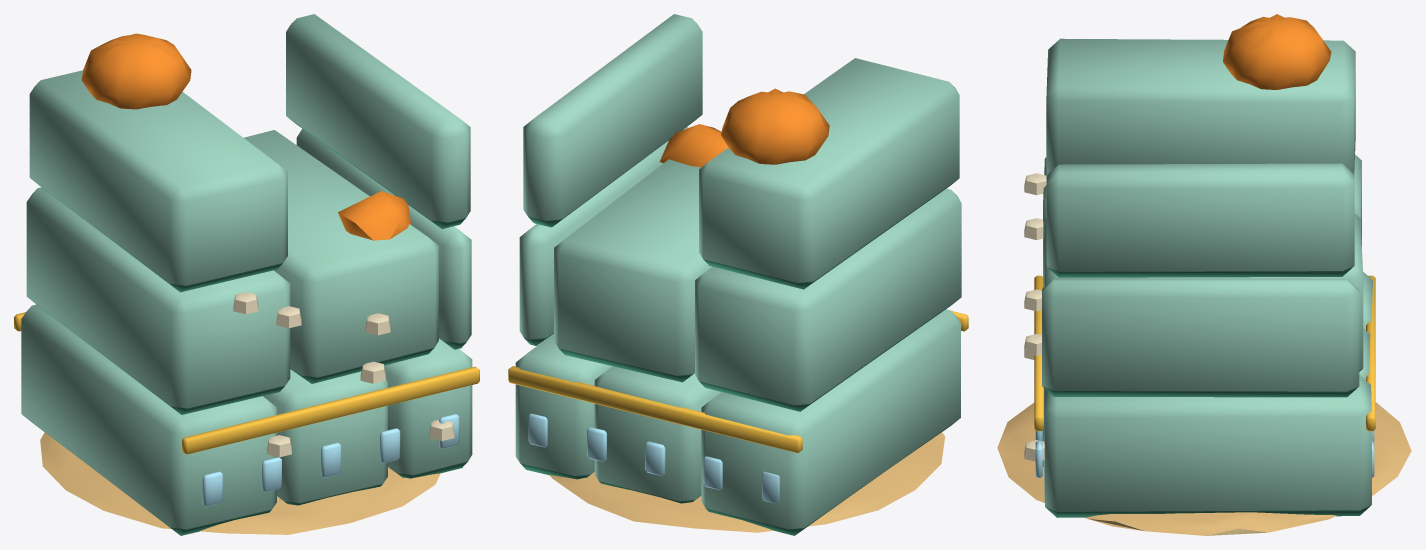
Rendered from AtlantisWall.fbx.
3 views of the same model, side by side, from view 1: azimuth 30°, elevation 25°; view 2: azimuth 150°, elevation 25°; view 3: azimuth 270°, elevation 25° (orthographic).
Visible parts, largest first — view 1: AtlantisWall; view 2: AtlantisWall; view 3: AtlantisWall.
Boxes of the visible parts, x1,y1,x2,y2 form: AtlantisWall: (14, 14, 479, 535); AtlantisWall: (508, 14, 968, 535); AtlantisWall: (997, 14, 1411, 535).
Bounding box in the file's own units: 1.7 × 1.8 × 1.72.
Materials: 2 (2 with a texture image).
